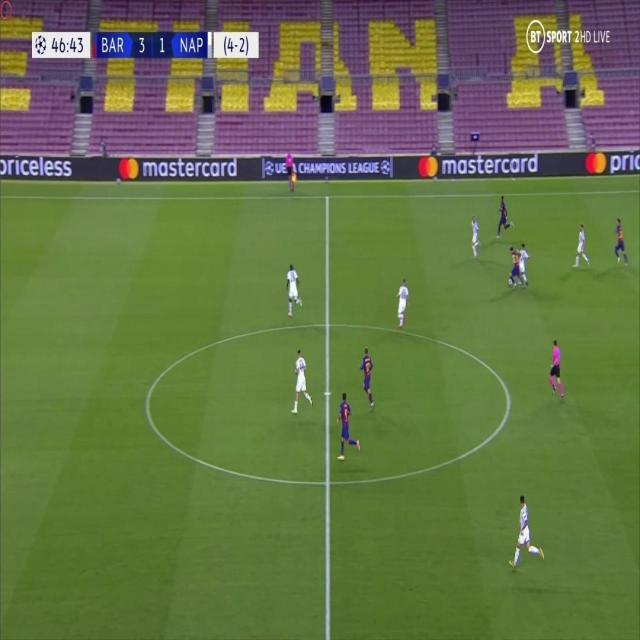ball: (507, 276, 514, 288)
player: (506, 491, 544, 570), (290, 345, 314, 416), (336, 390, 359, 460), (356, 343, 376, 413), (611, 217, 630, 268), (395, 274, 411, 332), (285, 261, 301, 317), (494, 194, 513, 241), (573, 220, 590, 269), (516, 242, 532, 288), (507, 243, 521, 289), (469, 211, 481, 257)
referee: (548, 336, 566, 400), (283, 146, 298, 192)
